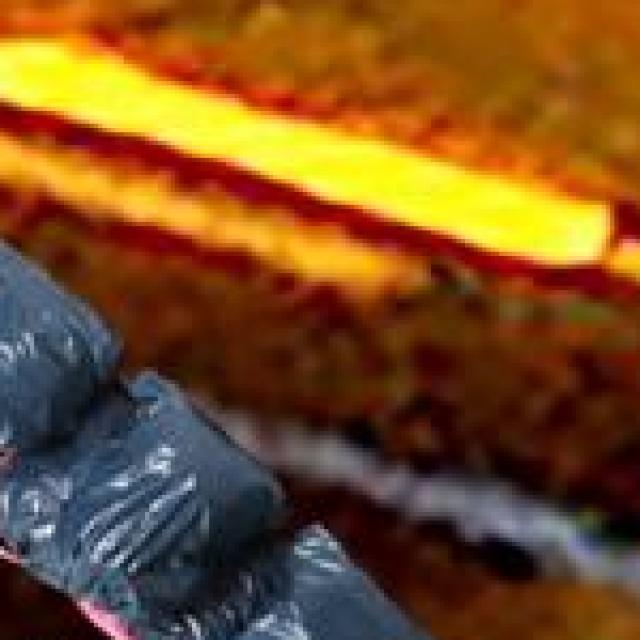Trashbag: (19, 433, 236, 605), (0, 255, 133, 441), (255, 539, 455, 640)
